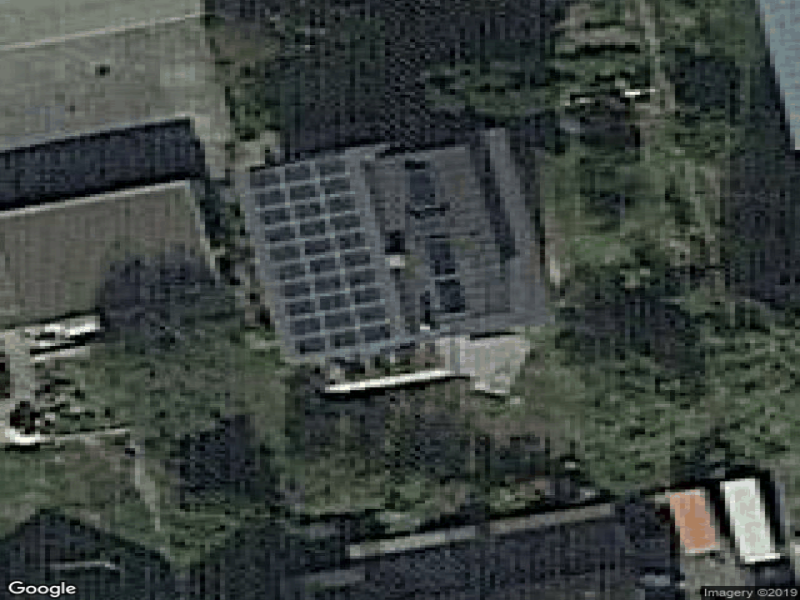pv: (247, 155, 395, 356)
